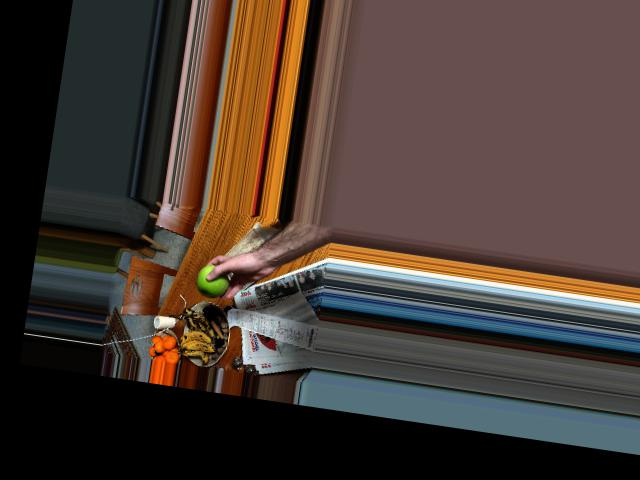apple: (193, 265, 237, 301)
